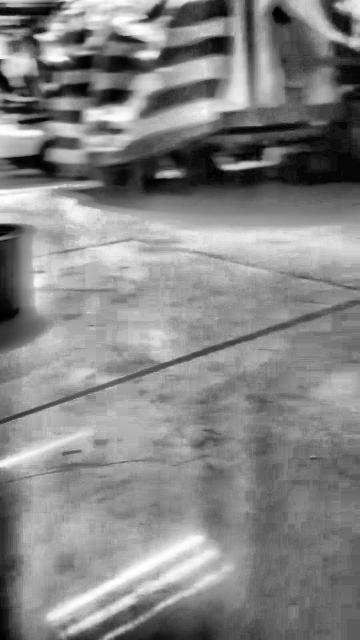pot: (0, 222, 35, 321)
